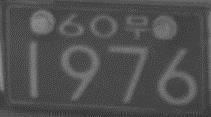0: (88, 13, 119, 39)
1: (18, 40, 52, 99)
6: (156, 48, 198, 106), (58, 12, 84, 38)
7: (107, 44, 149, 103)
9: (59, 43, 102, 100)
무: (122, 14, 149, 40)
